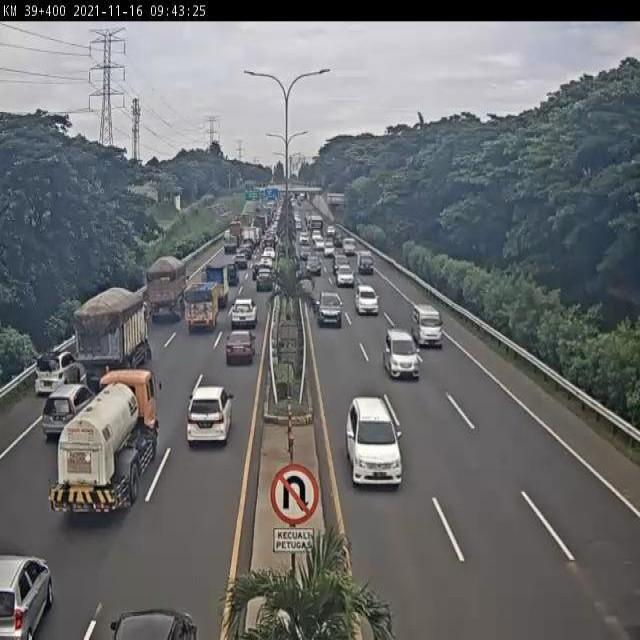car: (340, 387, 408, 493), (0, 550, 71, 640), (182, 371, 235, 453), (24, 340, 82, 404), (42, 383, 99, 444), (380, 325, 420, 388), (308, 285, 353, 331), (217, 327, 259, 376), (408, 301, 445, 352), (350, 276, 383, 319), (198, 264, 230, 305), (223, 299, 261, 333), (253, 269, 274, 296), (303, 252, 323, 280), (335, 260, 354, 289), (220, 231, 241, 257), (247, 260, 267, 284), (339, 235, 359, 256), (226, 259, 242, 285), (231, 254, 250, 270), (323, 240, 340, 257)
small truck: (182, 282, 225, 338), (354, 249, 376, 279)
truck-m-: (50, 364, 177, 532), (73, 283, 155, 387), (142, 253, 186, 329)
